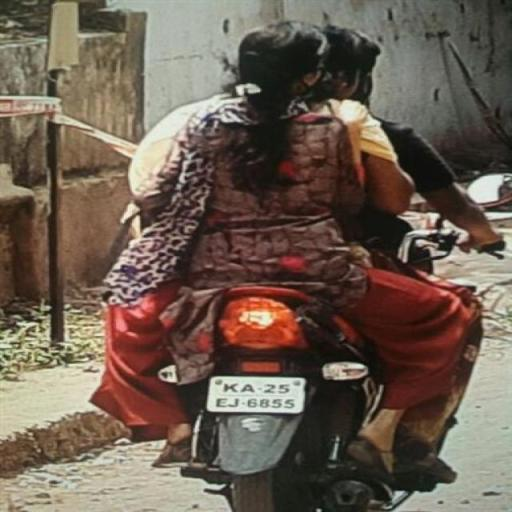tripple riding: (134, 22, 504, 292)
